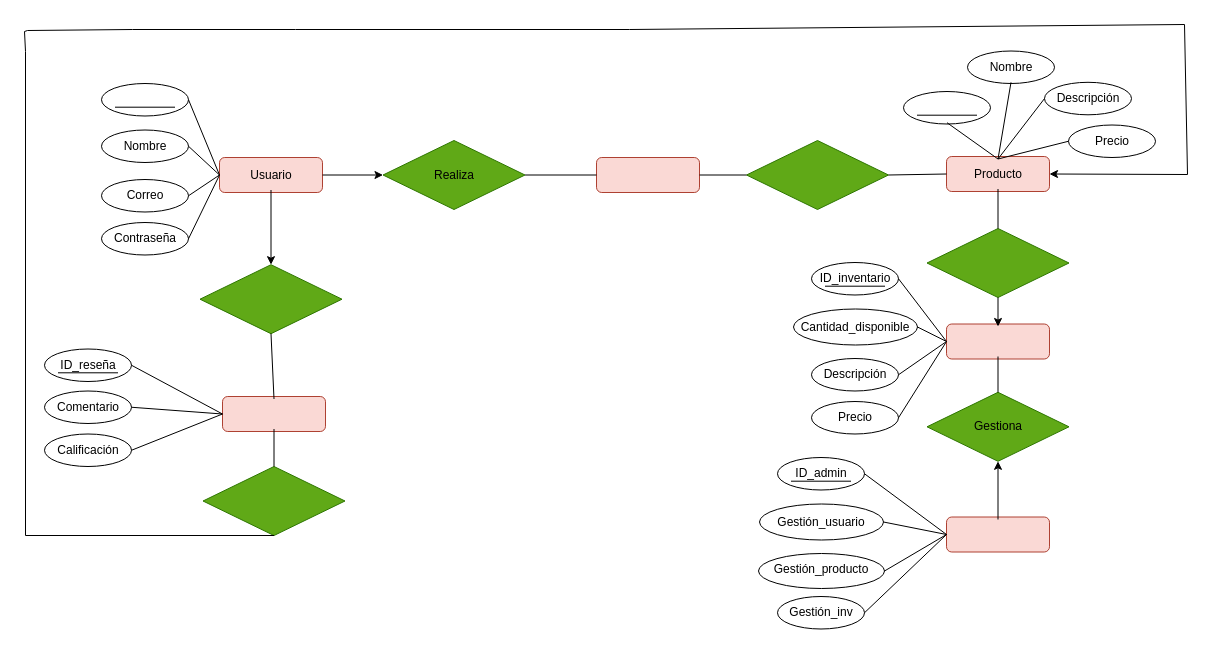
Image size: 1213x647. Some labels were removed from this diagram. The box of each missing label's shape, as (x1, y1, x2, y2) in pixels:
Administrador: (946, 516, 1050, 552)
DetalleP: (746, 140, 888, 210)
Escribe: (199, 264, 342, 334)
Evalúa: (202, 466, 345, 536)
ID_producto: (902, 90, 990, 124)
ID_usuario: (100, 82, 188, 116)
Inventario: (946, 323, 1050, 359)
Reseña: (222, 396, 326, 432)
Tiene: (926, 228, 1069, 298)
Venta: (596, 156, 700, 192)
